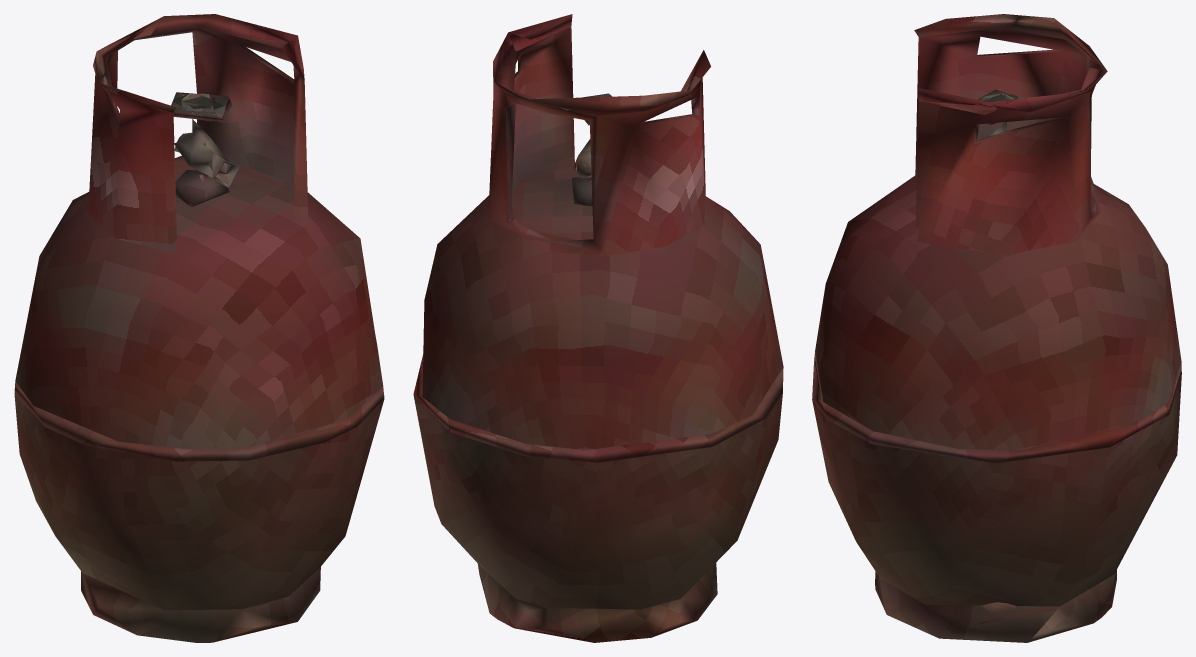
File: small_lpg_tank.glb
3 renders of one model, left to right at view 1: azimuth 30°, elevation 25°; view 2: azimuth 150°, elevation 25°; view 3: azimuth 270°, elevation 25°, orthographic.
Parts seen in each view (by area): view 1: small_lpg_tank; view 2: small_lpg_tank; view 3: small_lpg_tank.
Part boxes in pixels (bbox=[...]): small_lpg_tank: bbox=[14, 14, 384, 642]; small_lpg_tank: bbox=[413, 14, 783, 642]; small_lpg_tank: bbox=[812, 14, 1181, 642].
Bounding box in the file's own units: 0.4035 × 0.642 × 0.3987.
Materials: 1 (1 with a texture image).
